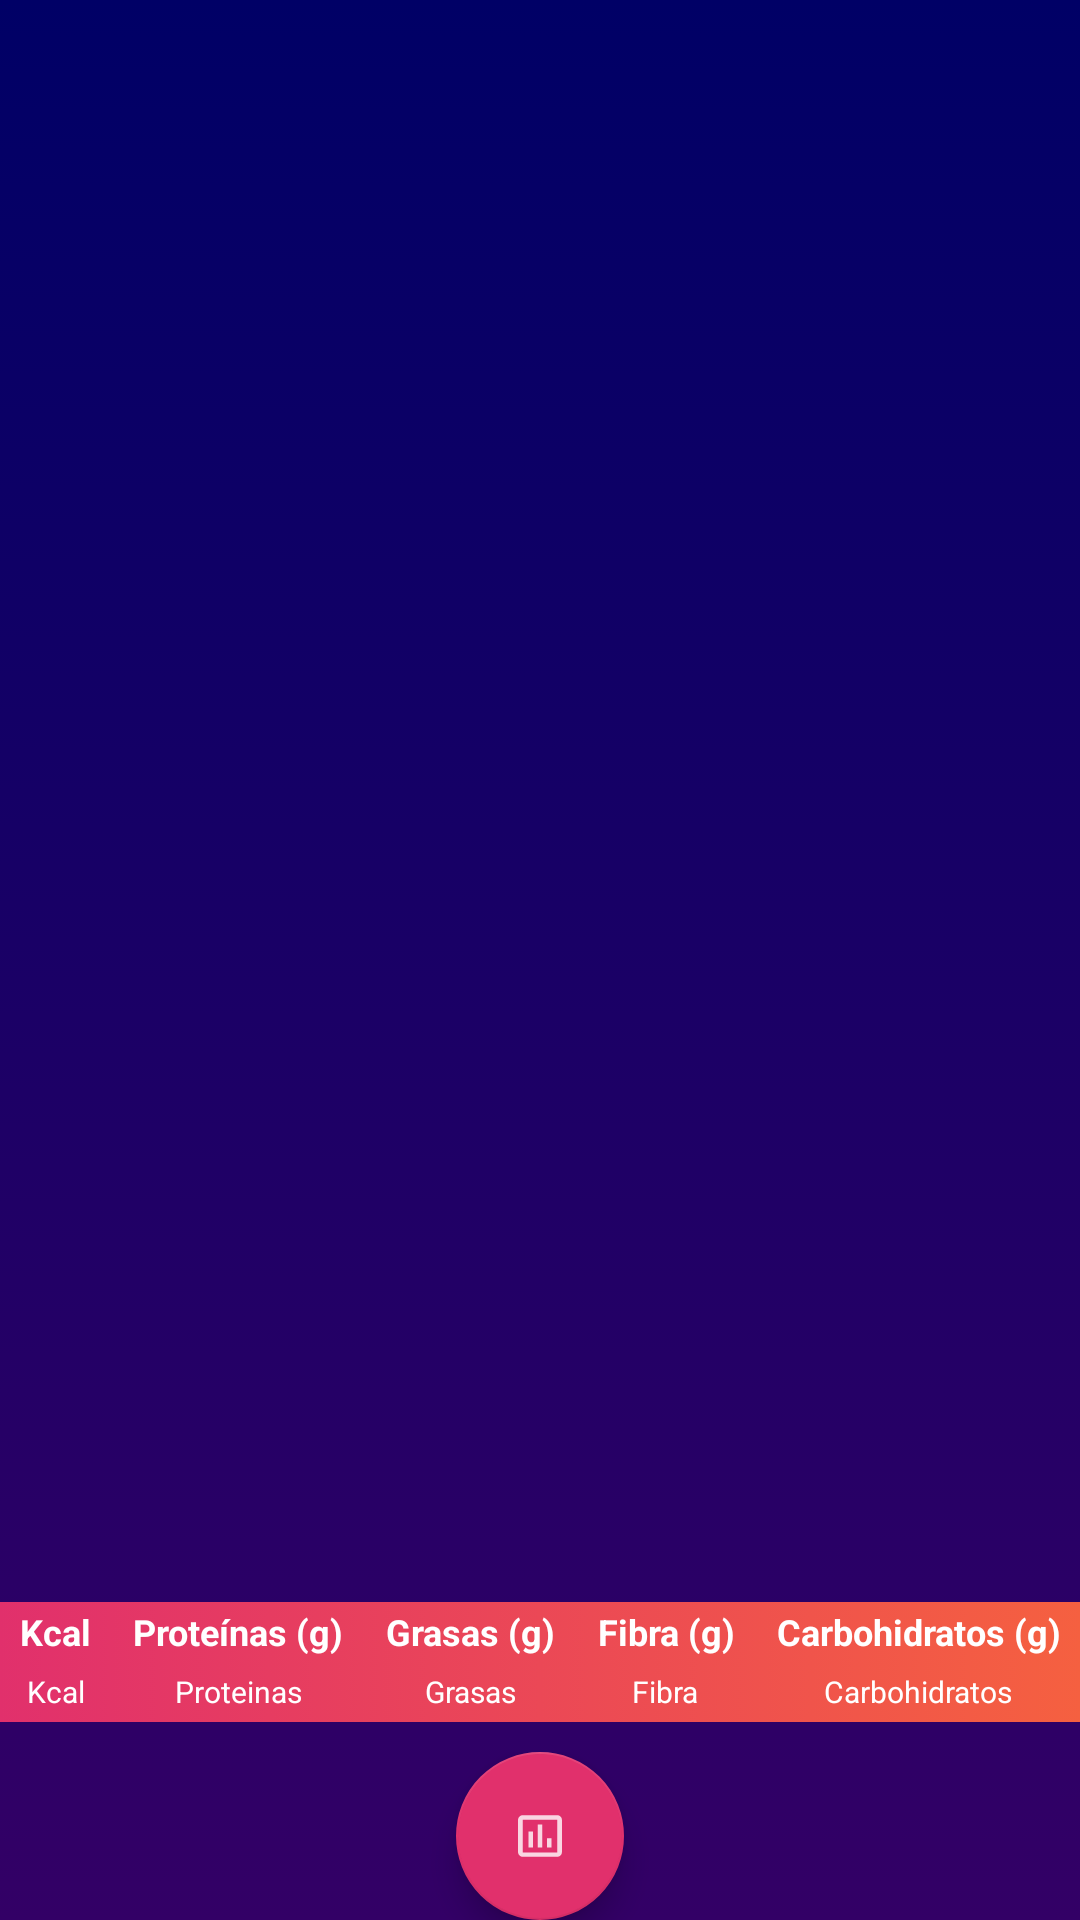

Icons on this 1080px x 1920px Android screen, each with its box as (x1, y1, x2, y2):
grafico: (456, 1752, 624, 1920)
